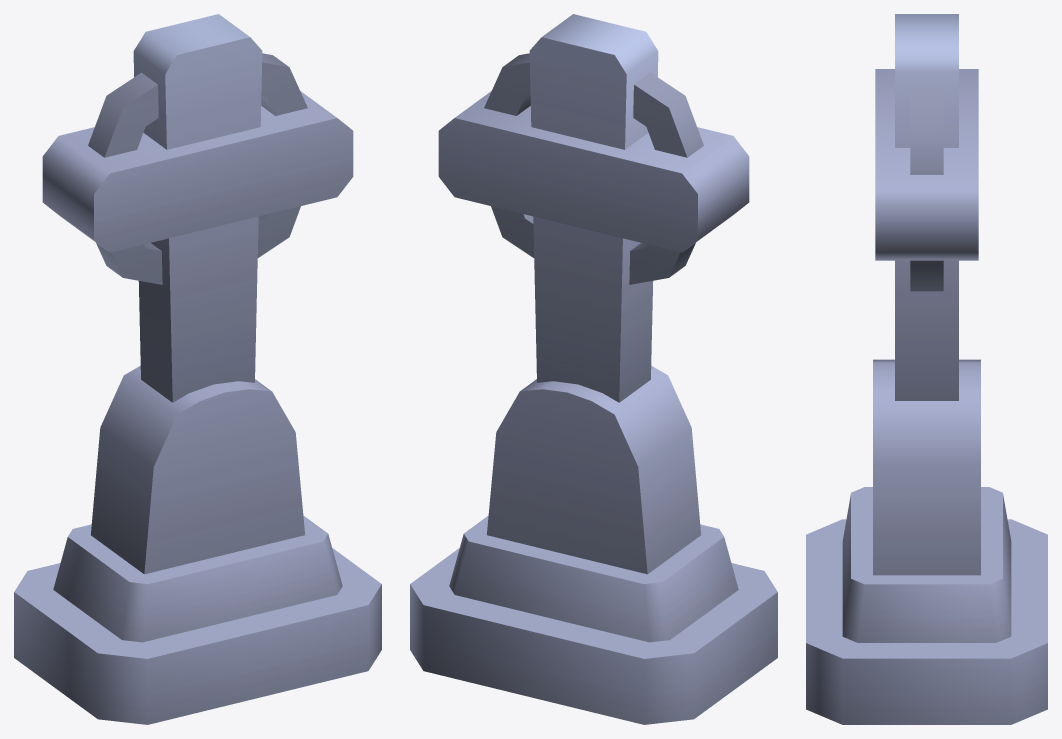
Rendered from gravestone-cross-large.glb.
3 views of the same model, side by side, from view 1: azimuth 30°, elevation 25°; view 2: azimuth 150°, elevation 25°; view 3: azimuth 270°, elevation 25° (orthographic).
Visible parts, largest first — view 1: gravestone-cross-large; view 2: gravestone-cross-large; view 3: gravestone-cross-large.
Part boxes in pixels (left/top/right/bottom): gravestone-cross-large: left=14, top=14, right=381, bottom=724; gravestone-cross-large: left=410, top=14, right=777, bottom=724; gravestone-cross-large: left=806, top=14, right=1047, bottom=724.
Size of the model in its own units: 0.45 by 0.9383 by 0.33.
1 material, 1 textured.
